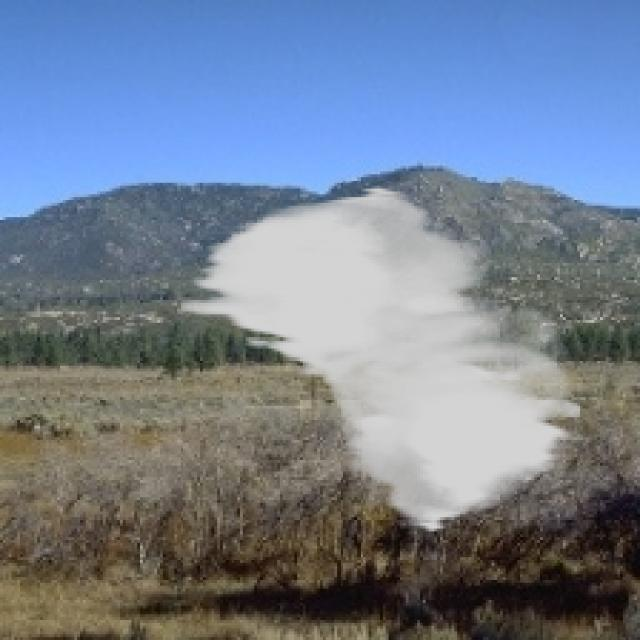Smoke: (180, 186, 583, 534)
